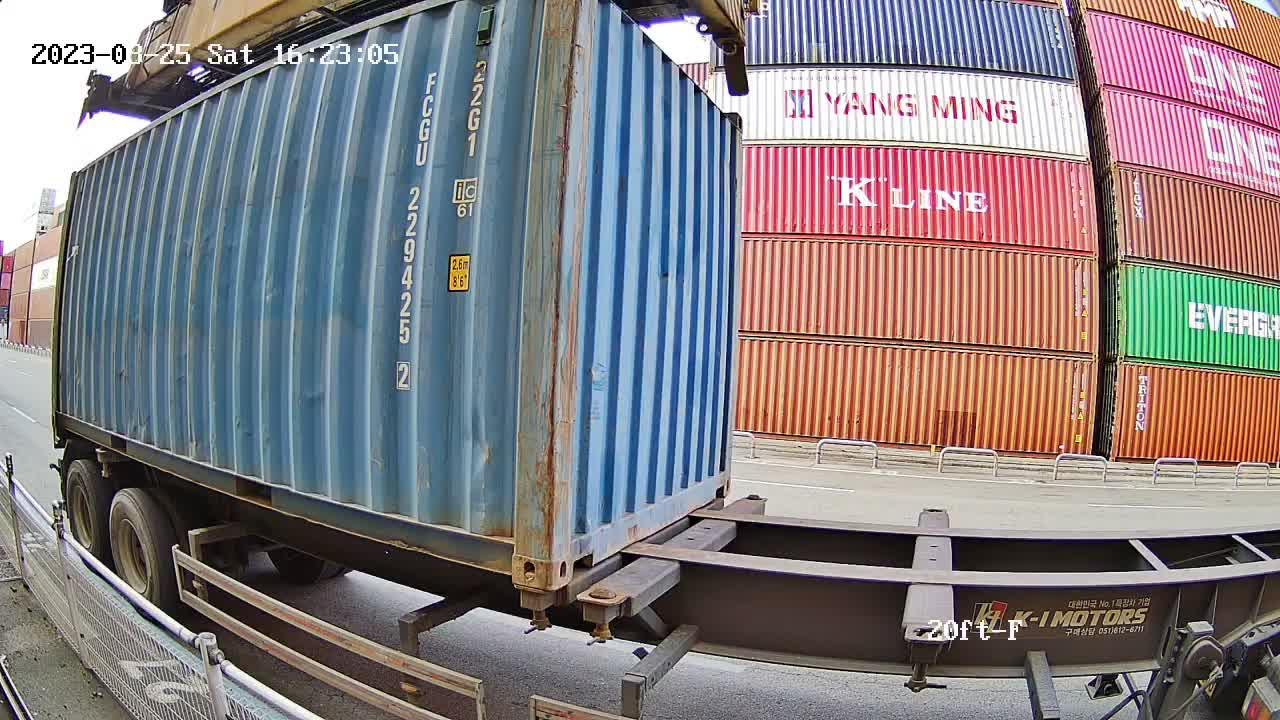Chassis: (579, 497, 766, 614)
Cone: (581, 589, 630, 648), (513, 584, 560, 635)
Hole_L: (551, 504, 597, 591)
Hole_R: (479, 504, 553, 591), (710, 457, 731, 502)
Tire: (110, 493, 158, 614), (64, 462, 102, 569)
